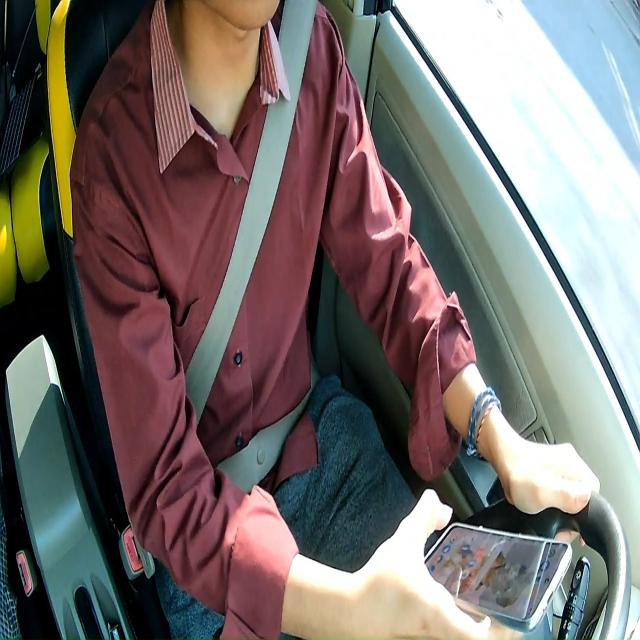phone: (422, 518, 572, 636)
